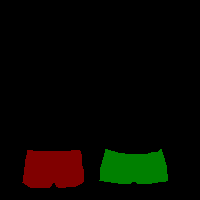mutande: (99, 148, 168, 184), (22, 150, 84, 188)
